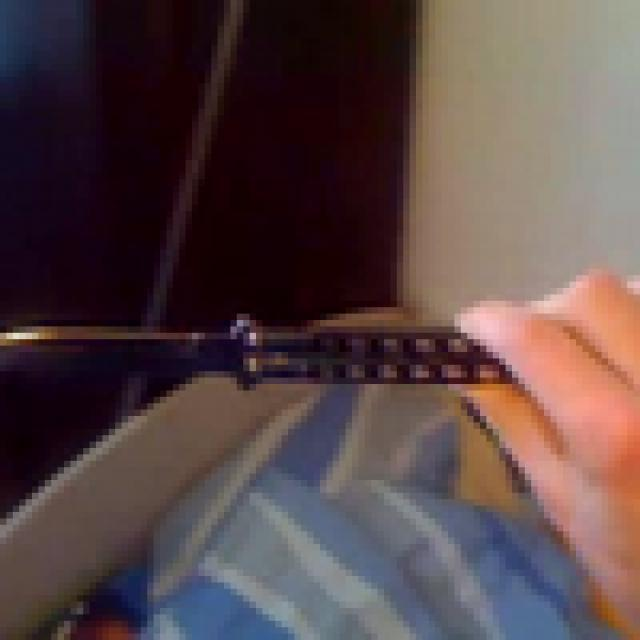knife: (0, 263, 557, 500)
